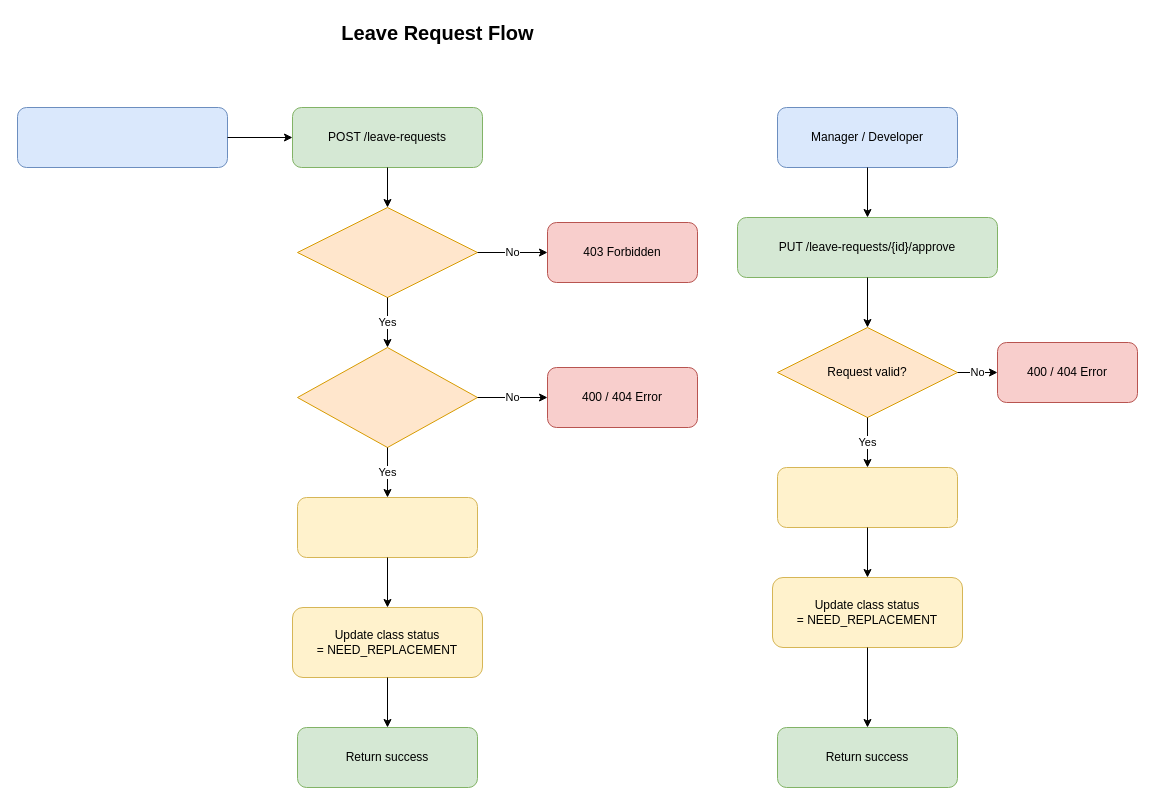
Some shapes in this 1155 by 805 pixel diagram are drawn without their labels. The centre of each missing label's shape, as x and y in pixels:
"Allowed to create request?" belongs at [387,252].
"Approve request" belongs at [867,497].
"Class exists and matches teacher?" belongs at [387,397].
"Create leave request" belongs at [387,527].
"Teacher / Manager / Developer" belongs at [122,137].
